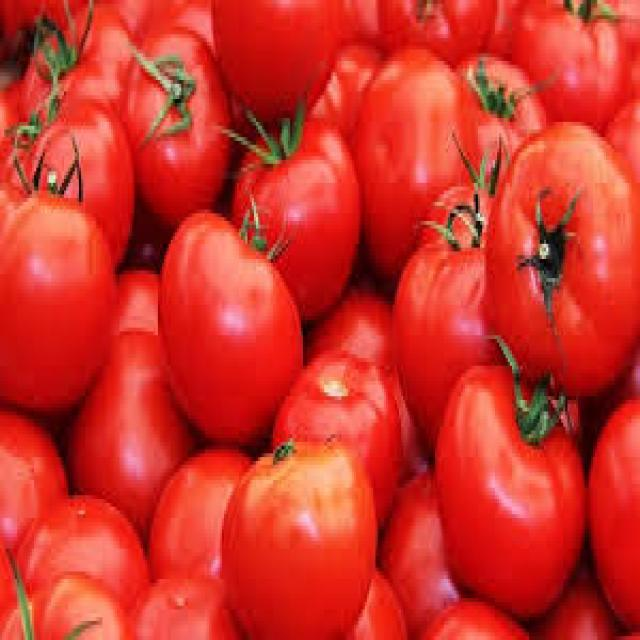tomato: (488, 130, 638, 419), (435, 366, 589, 624), (158, 214, 307, 454), (220, 442, 378, 636), (228, 114, 365, 328), (392, 184, 495, 456), (266, 347, 409, 537), (0, 191, 116, 419), (355, 46, 467, 278), (72, 344, 191, 528), (126, 26, 231, 228), (17, 99, 134, 267), (587, 397, 638, 632)
